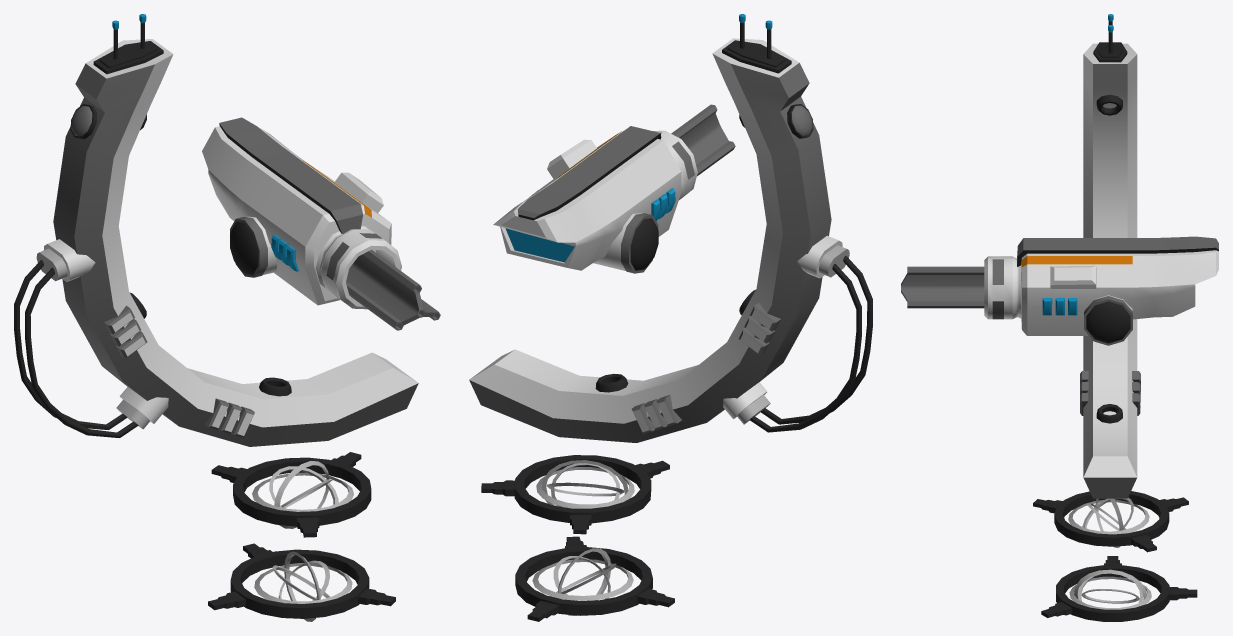
Rendered from tower_gatling_asset.fbx.
The picture shows the model from 3 angles, left to right: view 1: azimuth 30°, elevation 25°; view 2: azimuth 150°, elevation 25°; view 3: azimuth 270°, elevation 25°; orthographic projection. The views are drawn at different scales.
Parts seen in each view (by area): view 1: gatling_body, gatling_gun; view 2: gatling_body, gatling_gun; view 3: gatling_body, gatling_gun.
Boxes of the visible parts, x1=… form: gatling_body: x1=14, y1=14, x2=418, y2=621; gatling_gun: x1=202, y1=117, x2=440, y2=330; gatling_body: x1=469, y1=14, x2=872, y2=621; gatling_gun: x1=493, y1=104, x2=735, y2=273; gatling_body: x1=1033, y1=14, x2=1197, y2=621; gatling_gun: x1=901, y1=236, x2=1218, y2=345.
Bounding box in the file's own units: 133 × 213 × 116.
